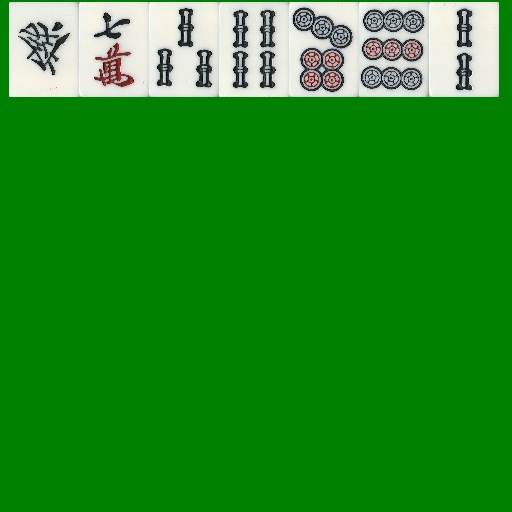2s: (429, 2, 499, 97)
3s: (149, 2, 219, 97)
4s: (219, 2, 289, 97)
7m: (79, 2, 149, 97)
7p: (289, 2, 359, 97)
9p: (359, 2, 429, 97)
hatsu: (9, 2, 79, 97)
